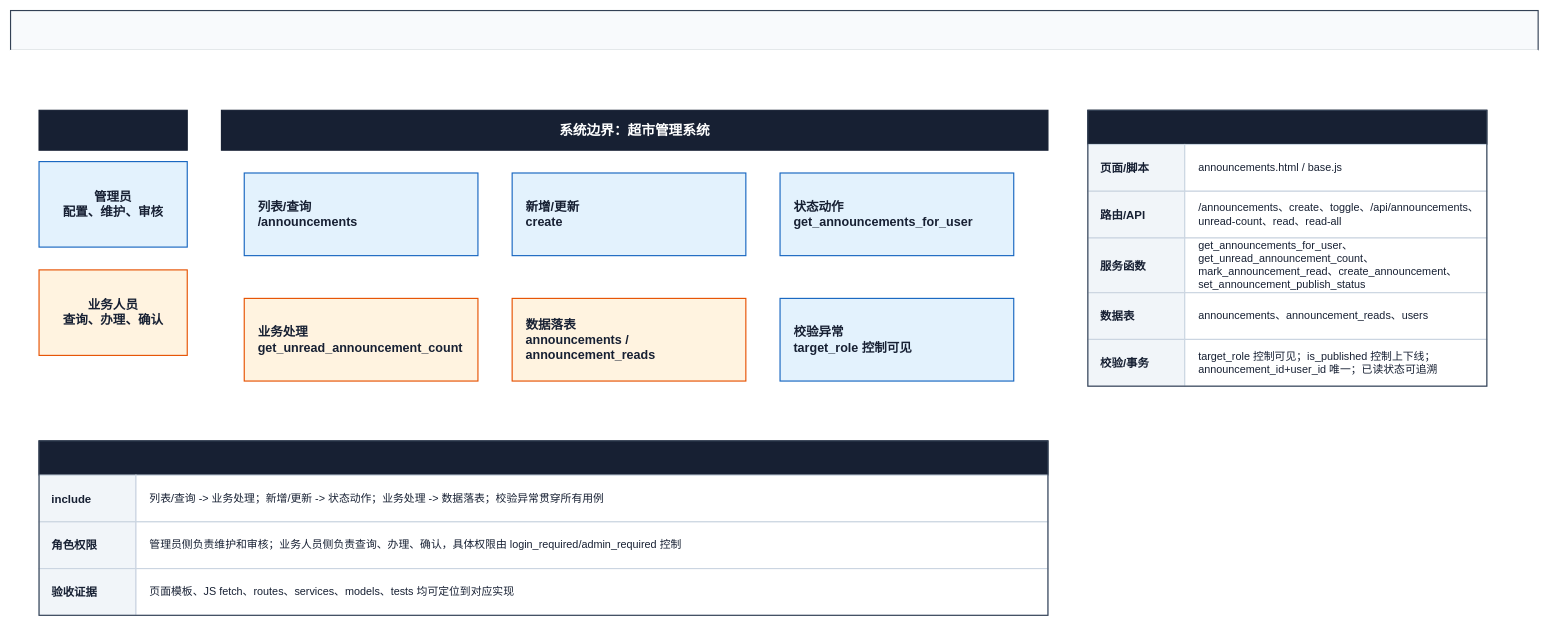
Image size: 1548x625. Some labels were removed from this diagram. The box of each missing label's shape, as (x1, y1, x2, y2) in pixels:
公告管理用例图: (10, 10, 1538, 51)
实现明细: (1087, 109, 1487, 145)
模块级用例矩阵｜角色｜用例｜实现入口｜校验点: (10, 50, 1538, 74)
用例依赖: (38, 440, 1048, 475)
角色: (38, 109, 188, 150)
